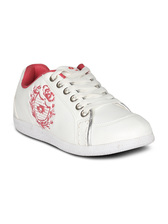shoes: (12, 62, 156, 158)
